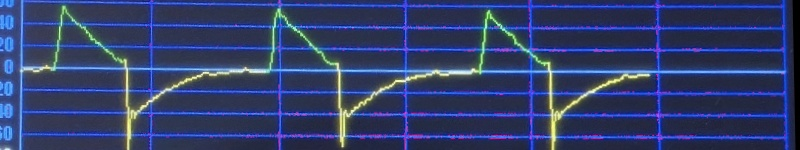normal_flow: (17, 0, 656, 150)
